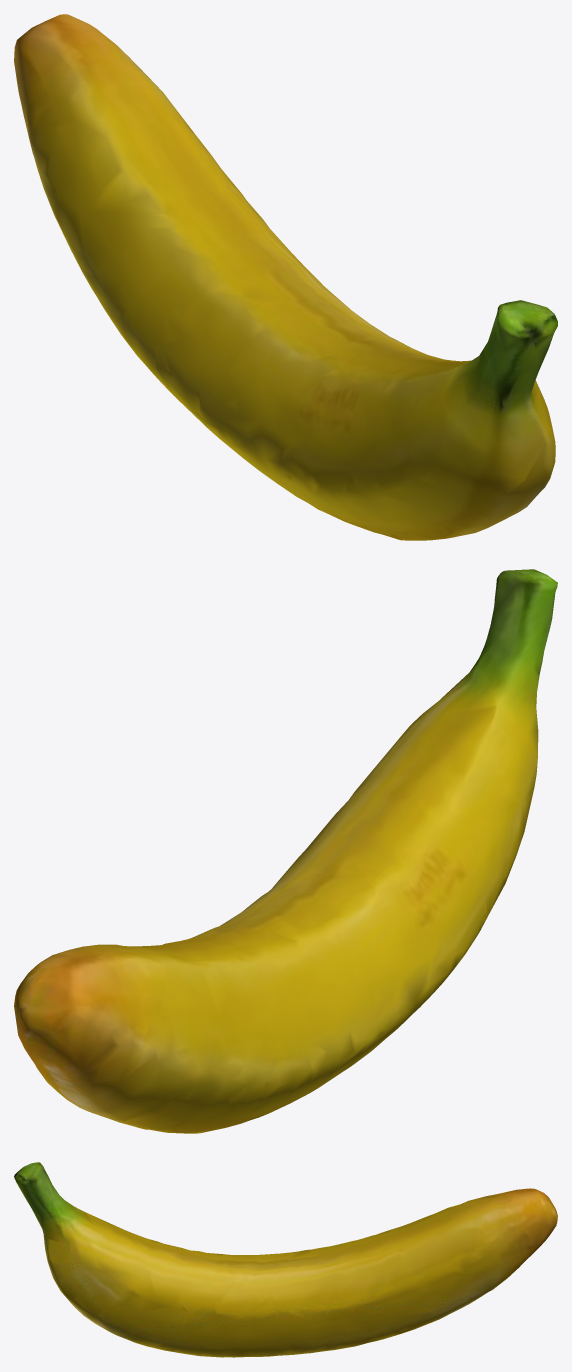
File: food_banana_a01.glb
3 renders of one model, top to bottom at view 1: azimuth 30°, elevation 25°; view 2: azimuth 150°, elevation 25°; view 3: azimuth 270°, elevation 25°, orthographic. The views are drawn at different scales.
Visible parts, largest first — view 1: sm_food_banana_a01_01; view 2: sm_food_banana_a01_01; view 3: sm_food_banana_a01_01.
Boxes of the visible parts, <box> form: sm_food_banana_a01_01: <box>14,14,557,540</box>; sm_food_banana_a01_01: <box>14,569,557,1133</box>; sm_food_banana_a01_01: <box>14,1162,557,1357</box>.
Bounding box in the file's own units: 0.0387 × 0.0742 × 0.1971.
Materials: 1 (1 with a texture image).
